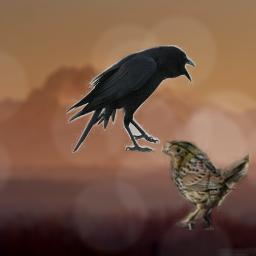Crow: (66, 45, 196, 153)
Sparrow: (160, 137, 249, 230)
